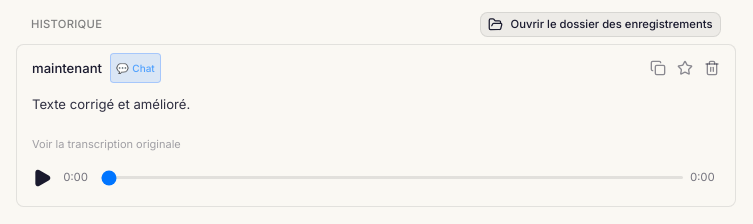
Test case: HistorySettings › toggles between raw and processed text
The image size is (753, 224).
Expected: the text "Texte corrigé et amélioré." is shown, [32,96,190,112]
// Click to show raw text
Click the button "Voir la transcription originale": (106, 144) [32,132,181,156]
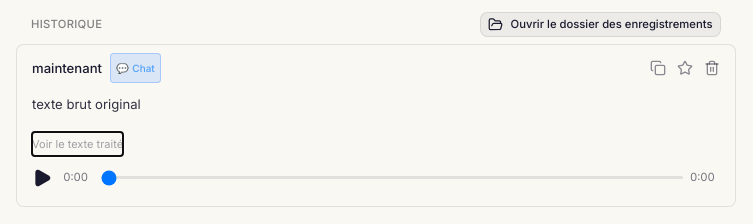
Expected: the text "texte brut original" is shown, [32,96,141,112]
Expected: the text "Texte corrigé et amélioré." is gone
// Click to show processed again
Click the button "Voir le texte traité": (78, 144) [32,132,123,156]
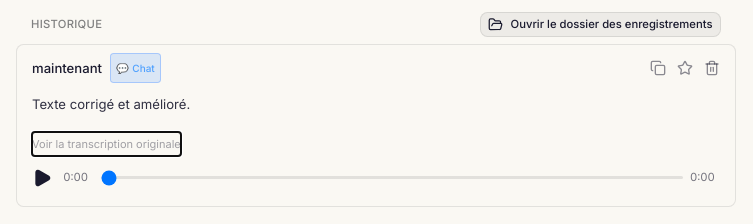
Expected: the text "Texte corrigé et amélioré." is shown, [32,96,190,112]
